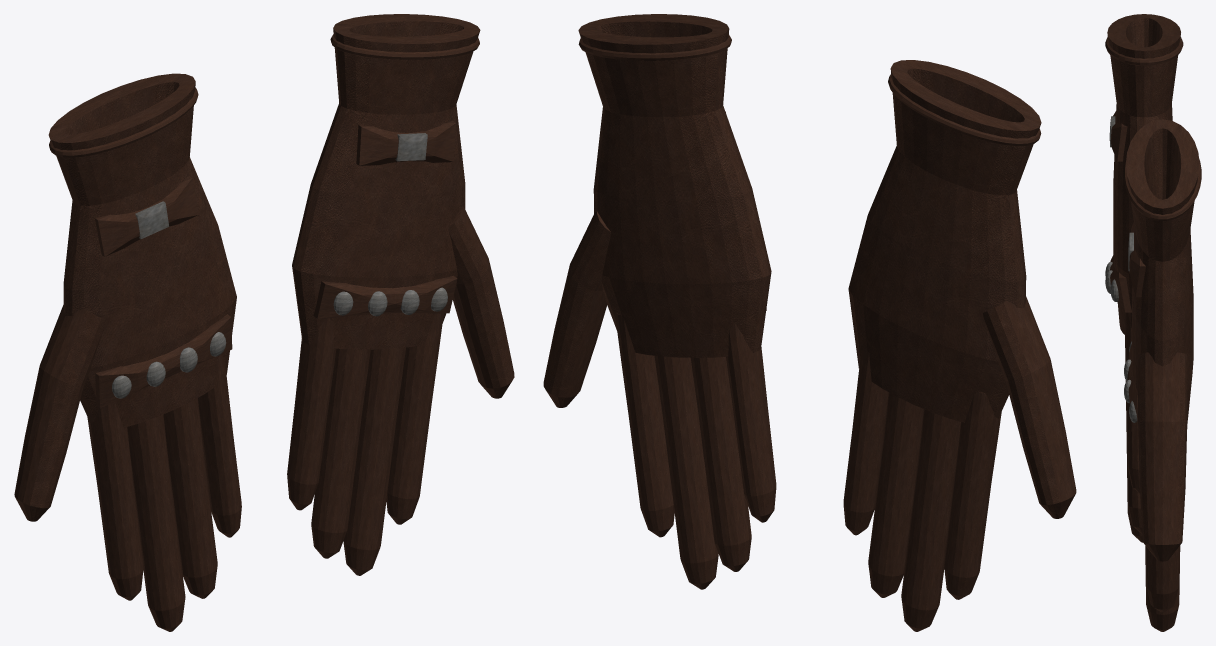
File: light.obj
The picture shows the model from 3 angles, left to right: view 1: azimuth 30°, elevation 25°; view 2: azimuth 150°, elevation 25°; view 3: azimuth 270°, elevation 25°; orthographic projection. The views are drawn at different scales.
Visible parts, largest first — view 1: right_palm_cuff, left_palm_cuff, left_thumb, right_finger_1, left_finger_1, right_finger_2, left_finger_2, left_finger_0, right_thumb, right_finger_0, right_finger_3, left_finger_3 (+8 smaller); view 2: right_palm_cuff, left_palm_cuff, left_thumb, right_finger_1, left_finger_1, right_finger_2, left_finger_2, left_finger_0, right_thumb, right_finger_0, right_finger_3, left_finger_3 (+2 smaller); view 3: right_palm_cuff, right_thumb, left_palm_cuff, right_finger_0, left_finger_3, right_cuff_trim, right_finger_1, left_cuff_trim, left_finger_2, right_wrist_strap, left_knuckle_strap, left_wrist_strap (+2 smaller).
Boxes of the visible parts, x1,y1,x2,y2 form: right_palm_cuff: (292, 14, 480, 349); left_palm_cuff: (48, 73, 236, 427); left_thumb: (14, 305, 105, 521); right_finger_1: (343, 347, 405, 575); left_finger_1: (127, 414, 185, 631); right_finger_2: (311, 348, 370, 558); left_finger_2: (163, 398, 217, 598); left_finger_0: (87, 402, 143, 600); right_thumb: (448, 206, 514, 398); right_finger_0: (386, 313, 443, 524); right_finger_3: (287, 318, 336, 510); left_finger_3: (198, 354, 241, 537); right_palm_cuff: (578, 14, 771, 357); left_palm_cuff: (848, 60, 1041, 422); left_thumb: (982, 296, 1076, 518); right_finger_1: (654, 355, 718, 589); left_finger_1: (901, 409, 960, 631); right_finger_2: (691, 357, 751, 571); left_finger_2: (868, 392, 923, 597); left_finger_0: (944, 391, 1001, 599); right_thumb: (543, 211, 610, 407); right_finger_0: (615, 313, 674, 537); right_finger_3: (726, 322, 776, 522); left_finger_3: (843, 344, 888, 535); right_palm_cuff: (1126, 119, 1199, 423); right_thumb: (1138, 352, 1187, 561); left_palm_cuff: (1107, 14, 1180, 334); right_finger_0: (1145, 545, 1180, 612); left_finger_3: (1124, 312, 1140, 494); right_cuff_trim: (1123, 158, 1201, 220); right_finger_1: (1145, 551, 1180, 631); left_cuff_trim: (1105, 36, 1183, 65); left_finger_2: (1126, 410, 1142, 534); right_wrist_strap: (1129, 222, 1145, 297); left_knuckle_strap: (1110, 255, 1131, 312); left_wrist_strap: (1110, 111, 1127, 161).
Bounding box in the file's own units: 91.27 × 95 × 16.53.
2 materials, 2 textured.
